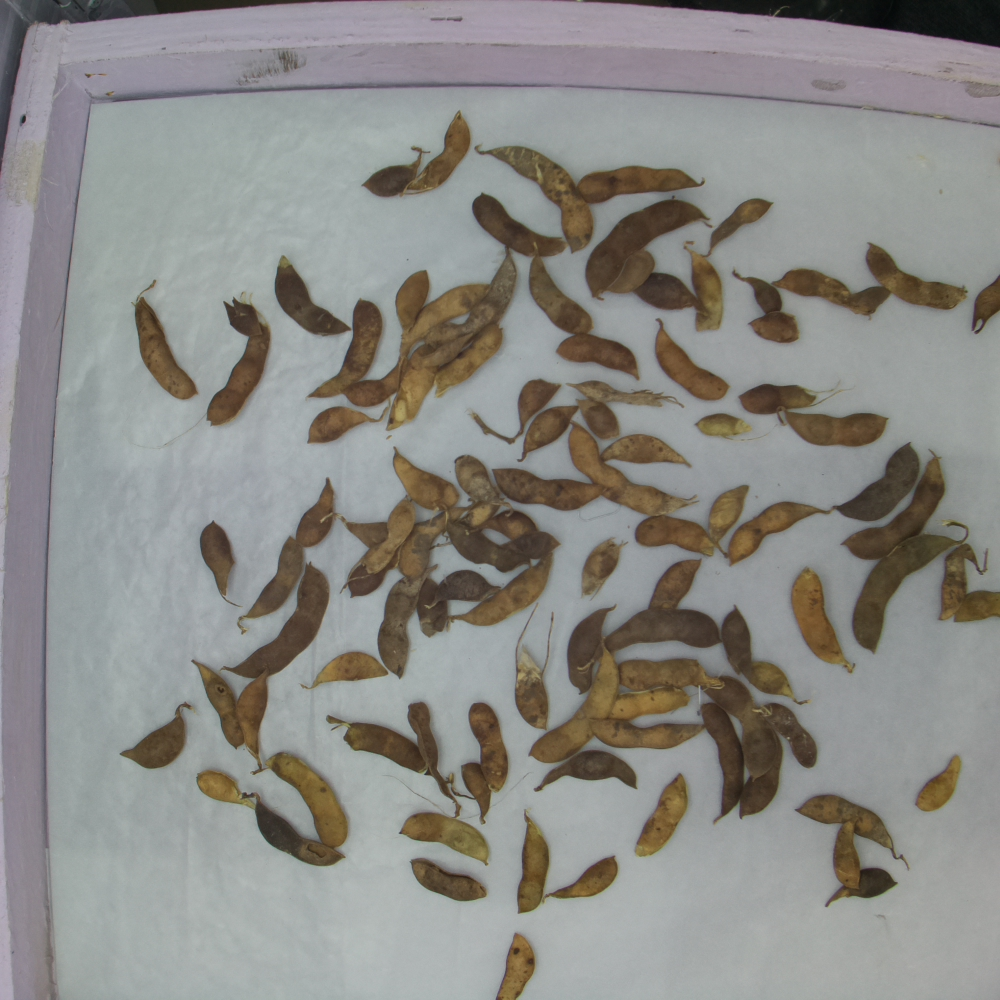fali: (847, 520, 975, 653), (474, 143, 593, 254), (568, 417, 700, 515), (222, 560, 331, 675), (840, 449, 947, 560), (528, 649, 621, 764), (796, 791, 913, 868), (206, 292, 271, 427), (703, 670, 778, 778), (264, 753, 349, 848), (132, 281, 199, 400), (454, 550, 557, 626), (242, 791, 346, 865), (308, 298, 383, 400), (378, 564, 440, 680), (727, 503, 837, 568), (237, 536, 307, 638), (866, 241, 969, 310), (792, 567, 856, 677), (834, 443, 920, 522), (325, 715, 435, 776), (472, 193, 569, 259), (274, 254, 351, 337), (397, 499, 480, 576), (407, 701, 462, 817), (445, 518, 562, 572), (655, 318, 731, 401), (529, 242, 596, 335), (697, 700, 742, 823), (119, 702, 197, 771), (490, 467, 615, 510), (408, 110, 471, 195), (769, 267, 876, 316), (399, 811, 492, 866), (604, 608, 722, 651), (434, 324, 503, 396), (191, 658, 245, 750), (514, 603, 553, 729), (567, 601, 618, 694), (578, 165, 709, 201), (633, 773, 688, 856), (386, 344, 437, 432), (392, 446, 462, 510), (755, 699, 818, 769), (408, 284, 488, 339), (197, 521, 246, 610), (633, 515, 732, 559), (362, 494, 417, 572), (466, 247, 517, 329), (535, 749, 637, 790), (555, 332, 641, 380), (785, 410, 890, 448), (707, 198, 774, 257), (235, 664, 270, 776), (339, 354, 410, 409), (454, 454, 516, 516), (564, 380, 688, 411), (588, 717, 712, 748), (683, 240, 723, 332), (618, 657, 726, 691), (298, 651, 392, 690), (516, 809, 550, 916), (362, 146, 432, 196), (469, 702, 508, 791), (739, 653, 807, 703), (601, 433, 694, 469), (410, 858, 487, 901), (306, 405, 390, 444), (633, 267, 704, 313), (544, 856, 618, 900), (295, 476, 337, 547), (707, 484, 752, 550), (915, 754, 965, 812), (580, 534, 627, 595), (495, 931, 536, 1000), (522, 406, 578, 456), (648, 557, 702, 608), (825, 868, 898, 905), (342, 554, 404, 597), (944, 543, 978, 620), (447, 519, 500, 568), (516, 378, 562, 434), (426, 569, 504, 601), (395, 266, 432, 333), (731, 269, 788, 312), (198, 770, 257, 811), (720, 603, 753, 675), (832, 819, 864, 891), (498, 528, 561, 564), (739, 383, 817, 412), (610, 689, 696, 715), (606, 251, 656, 295), (332, 512, 392, 546), (972, 264, 1000, 336), (418, 577, 449, 642), (575, 397, 622, 438), (460, 762, 491, 824), (950, 587, 1000, 621), (749, 312, 801, 344), (480, 511, 540, 537), (692, 414, 752, 437), (850, 286, 893, 318)
